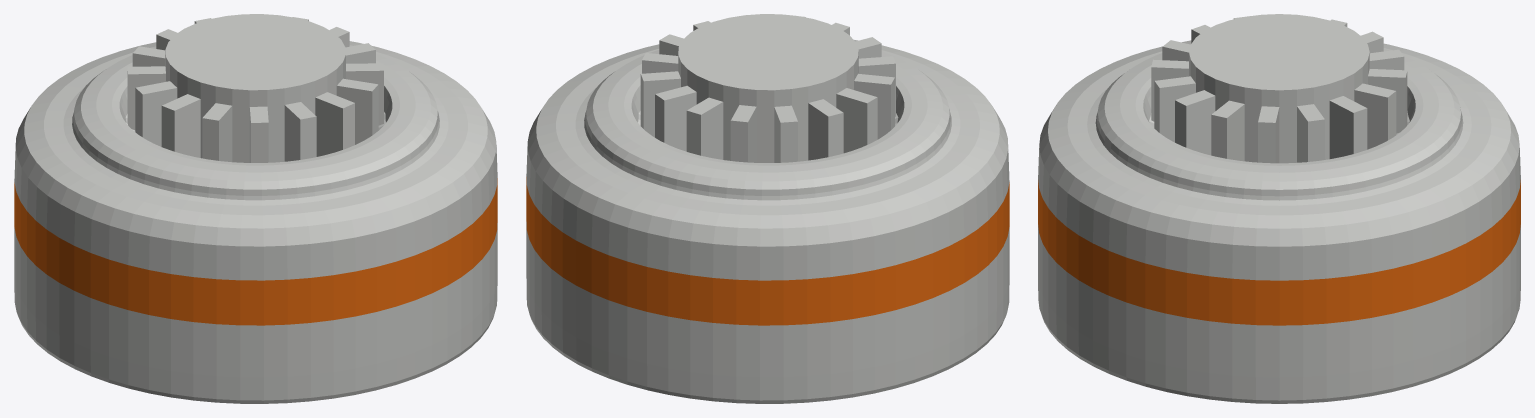
Rendered from Generator.fbx.
3 views of the same model, side by side, from view 1: azimuth 30°, elevation 25°; view 2: azimuth 150°, elevation 25°; view 3: azimuth 270°, elevation 25° (orthographic).
Parts seen in each view (by area): view 1: Generator; view 2: Generator; view 3: Generator.
Boxes of the visible parts, x1=… form: Generator: x1=14, y1=14, x2=497, y2=403; Generator: x1=526, y1=14, x2=1009, y2=403; Generator: x1=1038, y1=14, x2=1520, y2=403.
Size of the model in its own units: 609 by 349 by 609.
